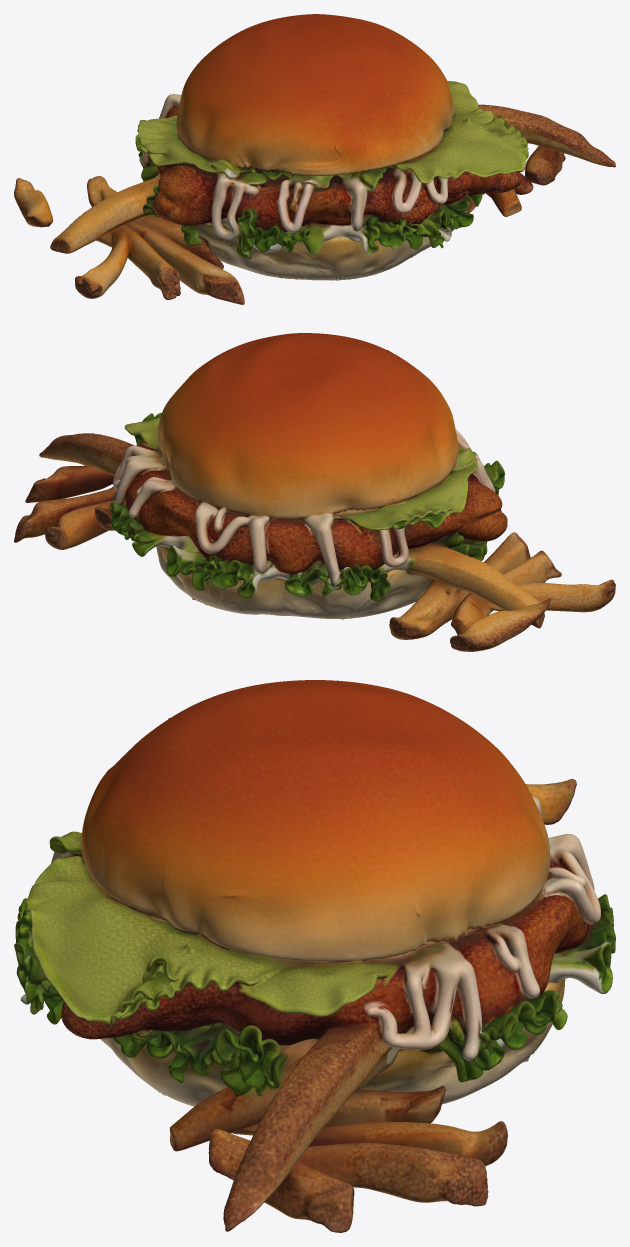
Rendered from jazz+3d+model.glb.
3 views of the same model, one above another, from view 1: azimuth 30°, elevation 25°; view 2: azimuth 150°, elevation 25°; view 3: azimuth 270°, elevation 25° (orthographic). The views are drawn at different scales.
Parts seen in each view (by area): view 1: tripo_node_51146869-c434-4342-808b-d3eefdea3c99; view 2: tripo_node_51146869-c434-4342-808b-d3eefdea3c99; view 3: tripo_node_51146869-c434-4342-808b-d3eefdea3c99.
Boxes of the visible parts, left/top/right/bottom form: tripo_node_51146869-c434-4342-808b-d3eefdea3c99: left=14, top=14, right=615, bottom=304; tripo_node_51146869-c434-4342-808b-d3eefdea3c99: left=14, top=333, right=615, bottom=651; tripo_node_51146869-c434-4342-808b-d3eefdea3c99: left=14, top=680, right=615, bottom=1232.
Size of the model in its own units: 0.9822 by 0.337 by 0.5776.
1 material, 1 textured.
